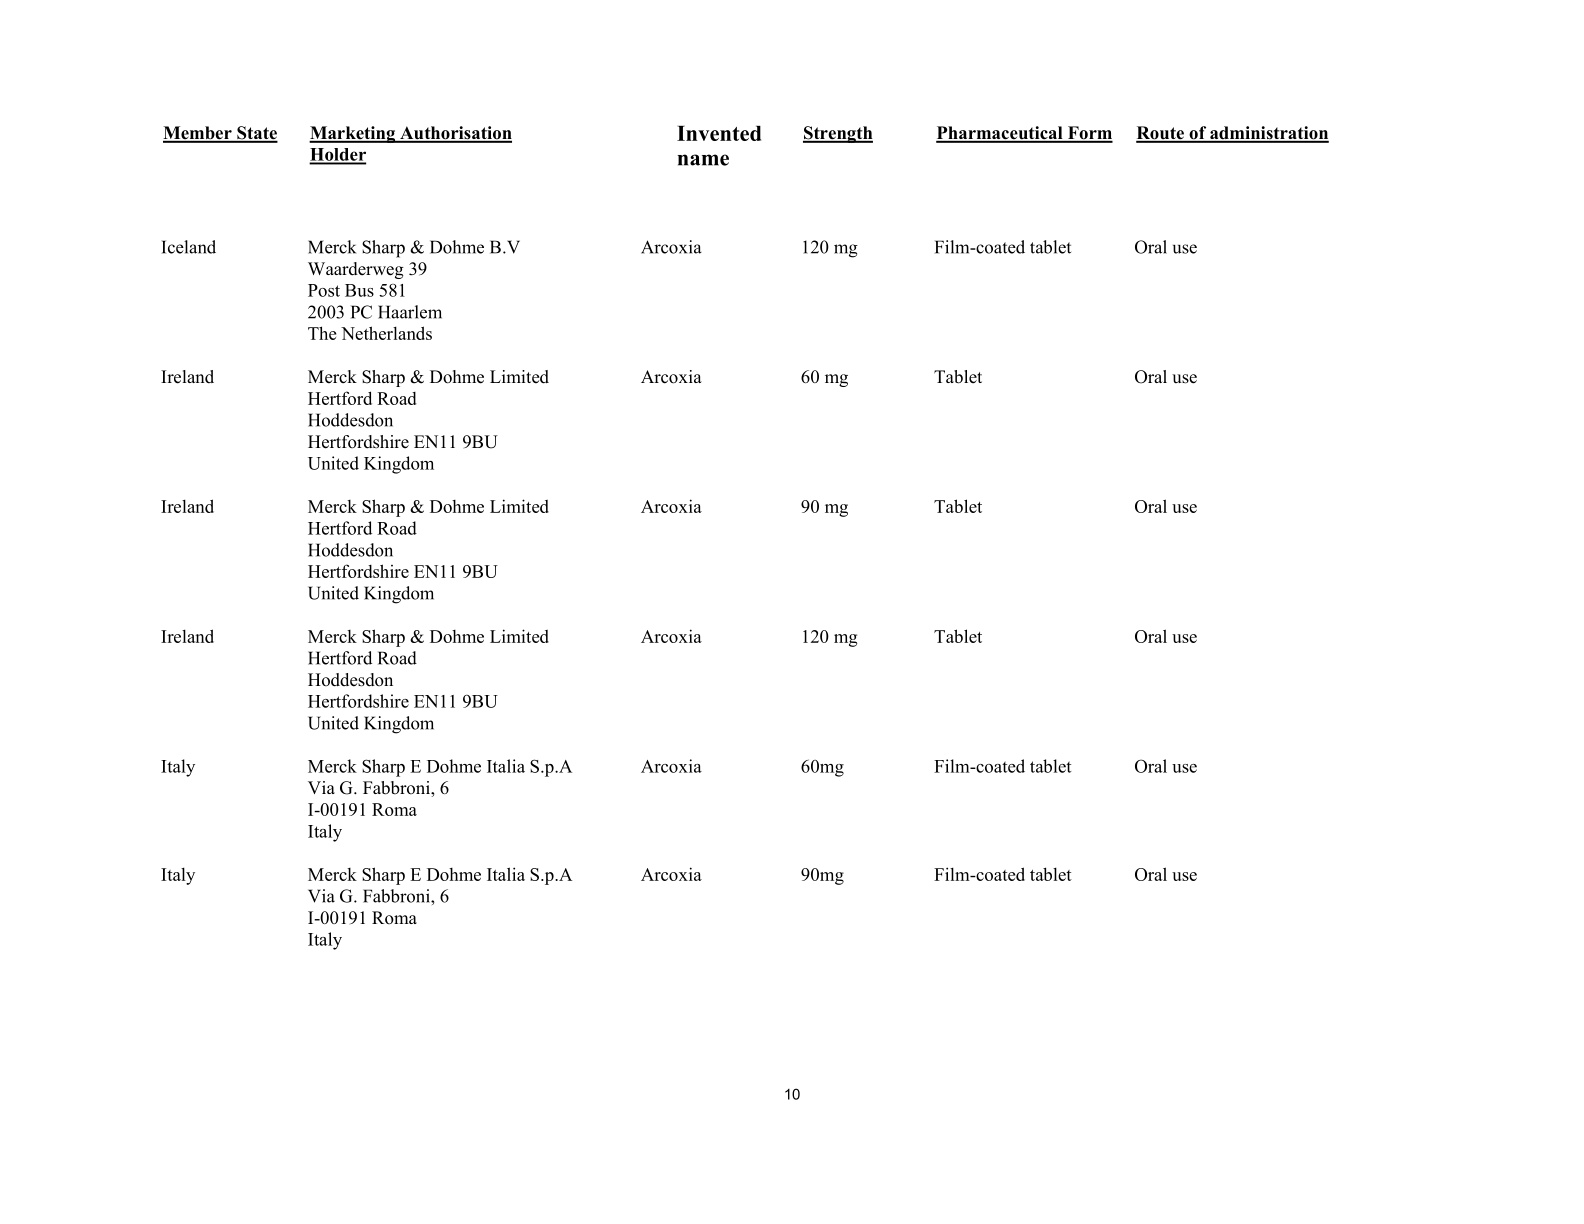nolines: (154, 121, 1333, 951)
